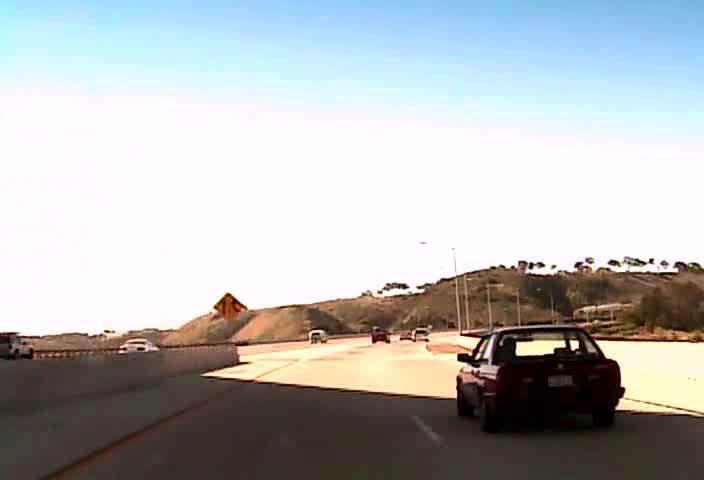addedLane: (212, 292, 246, 322)
